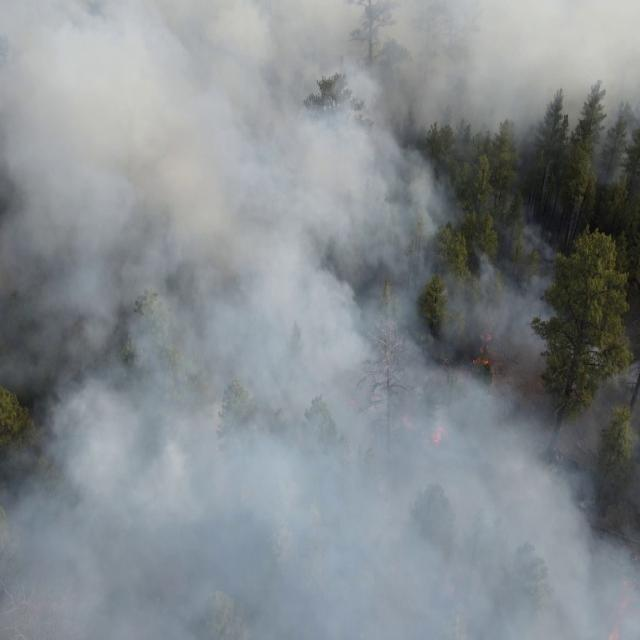fire: (606, 571, 640, 640), (472, 320, 501, 369), (428, 422, 451, 447), (399, 411, 418, 437), (342, 394, 361, 412), (369, 394, 381, 416)
smoke: (0, 0, 444, 640), (444, 365, 640, 640), (445, 0, 640, 186), (444, 227, 556, 366), (444, 188, 536, 228)
